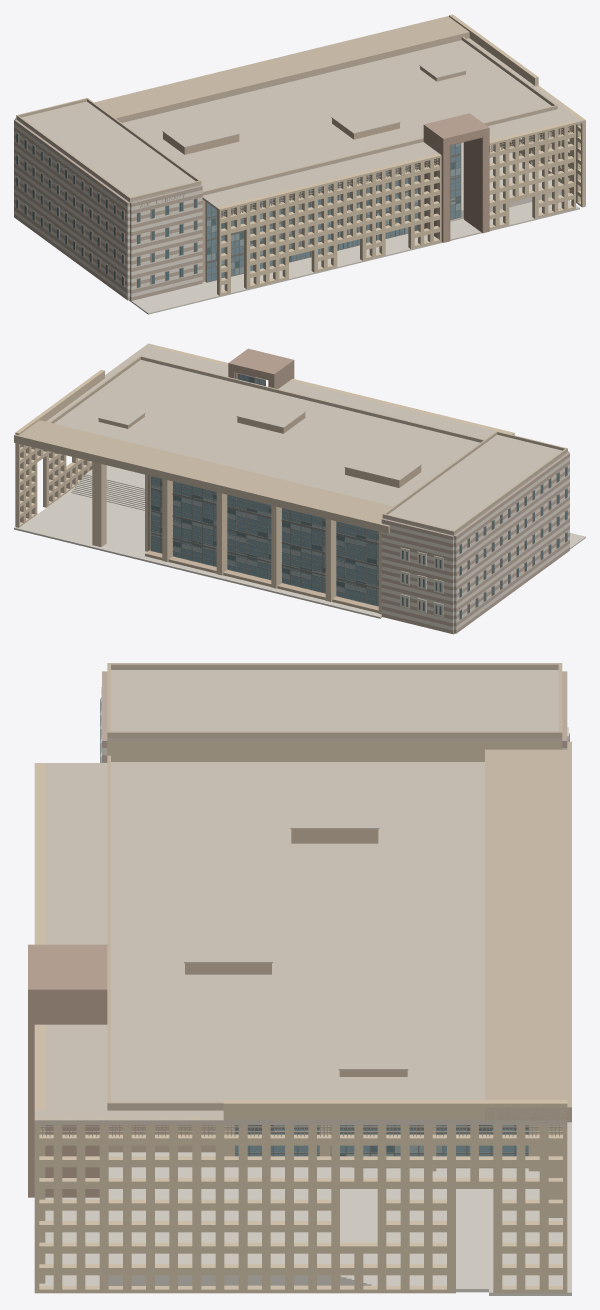
The model's file is auc_library.glb.
3 views of the same model, one above another, from view 1: azimuth 30°, elevation 25°; view 2: azimuth 150°, elevation 25°; view 3: azimuth 270°, elevation 25° (orthographic). The views are drawn at different scales.
Parts seen in each view (by area): view 1: roof, sandstone, roof_trim, brown_band, cream_band, paving, portal_stone, glass_blue, mullions, glass_dark, portal_inner, sandstone_dark (+2 smaller); view 2: roof, roof_trim, sandstone, brown_band, cream_band, glass_blue, paving, mullions, glass_dark, portal_stone, sandstone_dark, glass_light; view 3: roof, sandstone, roof_trim, paving, portal_stone, sandstone_dark, lattice_metal, glass_blue, mullions, brown_band.
Boxes of the visible parts, box(x1,y1,x2,y2) form: roof: box(16, 38, 585, 209); sandstone: box(129, 14, 585, 300); roof_trim: box(16, 16, 557, 200); brown_band: box(14, 118, 202, 300); cream_band: box(14, 124, 202, 297); paving: box(130, 142, 579, 314); portal_stone: box(16, 113, 489, 287); glass_blue: box(207, 144, 460, 281); mullions: box(205, 143, 461, 282); glass_dark: box(16, 133, 460, 287); portal_inner: box(443, 131, 489, 240); sandstone_dark: box(163, 66, 465, 282); roof: box(21, 343, 567, 535); roof_trim: box(14, 355, 567, 533); sandstone: box(15, 344, 514, 634); brown_band: box(381, 451, 569, 633); cream_band: box(381, 457, 569, 630); glass_blue: box(151, 374, 378, 605); paving: box(14, 465, 585, 618); mullions: box(148, 373, 378, 606); glass_dark: box(151, 377, 567, 619); portal_stone: box(228, 348, 567, 619); sandstone_dark: box(98, 413, 421, 613); glass_light: box(151, 378, 378, 592); roof: box(34, 670, 567, 1124); sandstone: box(34, 741, 567, 1293); roof_trim: box(107, 663, 571, 1122); paving: box(39, 1122, 571, 1295); portal_stone: box(28, 697, 107, 1197); sandstone_dark: box(108, 829, 528, 1168); lattice_metal: box(39, 1125, 562, 1136); glass_blue: box(235, 1125, 528, 1156); mullions: box(235, 1125, 528, 1156); brown_band: box(102, 671, 567, 762).
Size of the model in its own units: 105 by 24 by 56.21.
